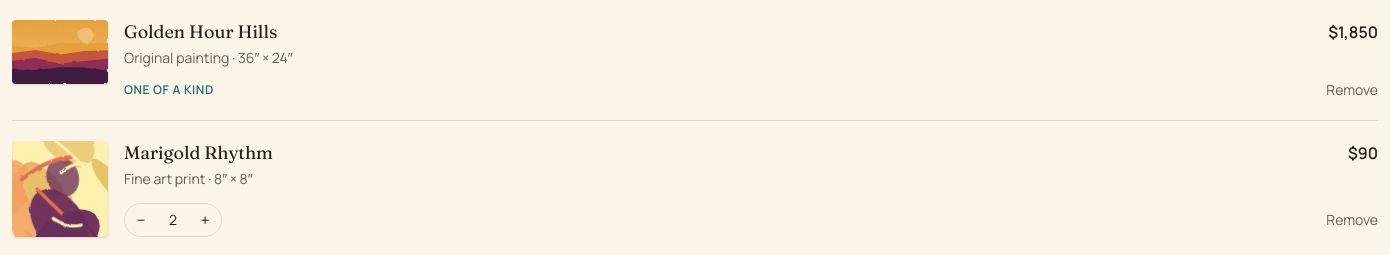
it: CartLines › removes an item
Click the button "Remove" in the row of "One of a kind": [1352, 90] box [1326,80,1378,100]
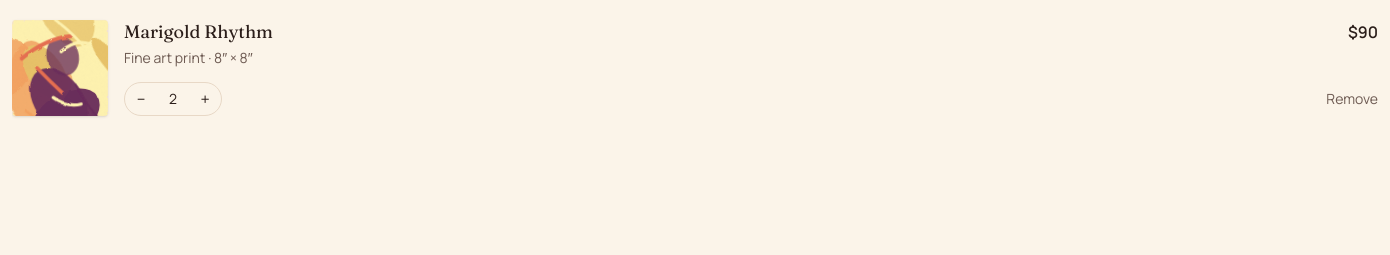
Expected: the number of list items is 1, [12,0,1378,136]
Expected: the link "Golden Hour Hills" is gone
